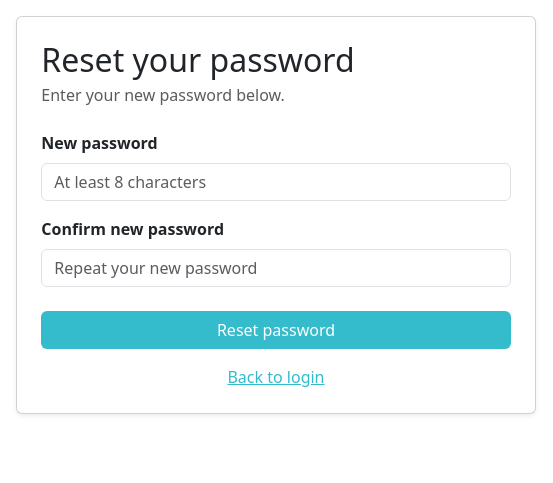
Test: ResetPasswordPage › shows required errors when both fields are empty
Step 1. Click the button "Reset password" → (276,330), box [41,311,511,349]
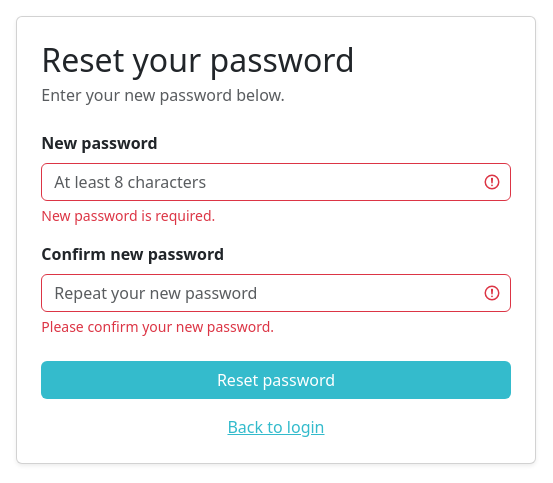
Check: the text "New password is required." is shown, box [41,206,215,225]
Check: the text "Please confirm your new password." is shown, box [41,317,274,336]
